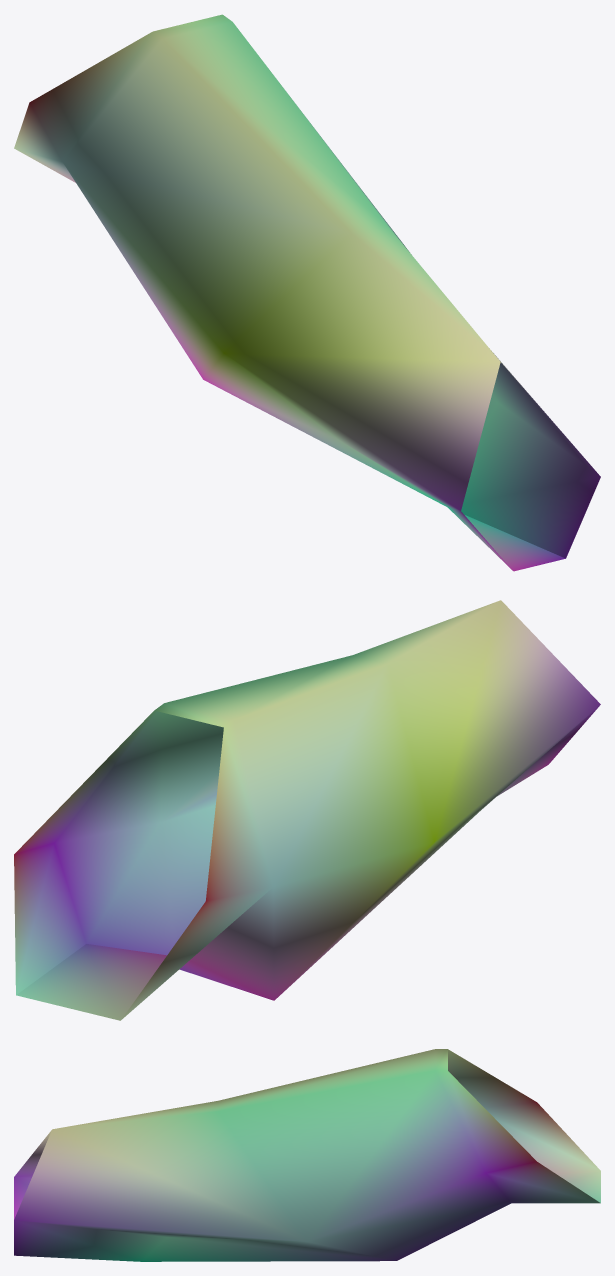
3 views of the same model, one above another, from view 1: azimuth 30°, elevation 25°; view 2: azimuth 150°, elevation 25°; view 3: azimuth 270°, elevation 25° (orthographic). The views are drawn at different scales.
Parts seen in each view (by area): view 1: part; view 2: part; view 3: part.
Boxes of the visible parts, <box> form: part: <box>14,14,600,571</box>; part: <box>14,600,600,1020</box>; part: <box>14,1049,600,1261</box>.
Bounding box in the file's own units: 14 × 17 × 46.
